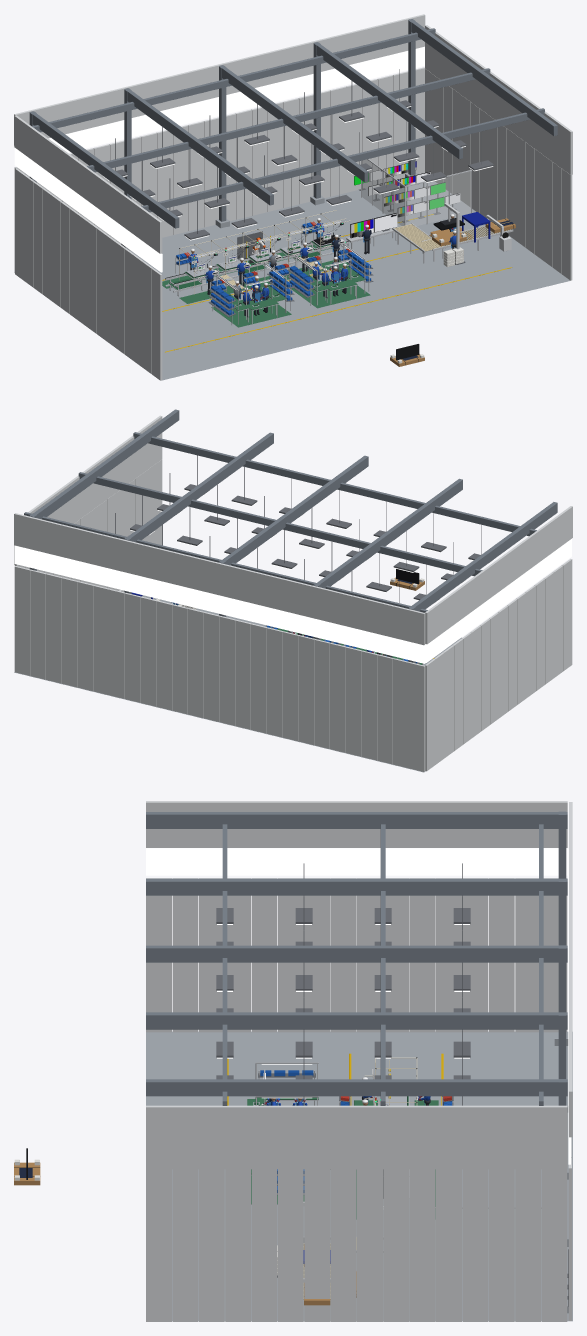
Rendered from slice.glb.
3 renders of one model, top to bottom at view 1: azimuth 30°, elevation 25°; view 2: azimuth 150°, elevation 25°; view 3: azimuth 270°, elevation 25°, orthographic. The views are drawn at different scales.
Visible parts, largest first — view 1: AREA.building.walls, AREA.floor.slab, AREA.building.steel, AREA.building.lights, AREA.qa.walls, AREA.floor.marks, AREA.people.operators, AREA.cells.benches, AREA.cells.bins, AREA.pack.conveyor, AREA.cells.feed, AREA.stations.frames (+9 smaller); view 2: AREA.building.walls, AREA.building.steel, AREA.building.lights, AREA.floor.slab; view 3: AREA.building.walls, AREA.building.steel, AREA.floor.slab, AREA.building.lights.
Part boxes in pixels (bbox=[...]): AREA.building.walls: bbox=[14, 14, 572, 380]; AREA.floor.slab: bbox=[130, 180, 570, 380]; AREA.building.steel: bbox=[29, 19, 557, 250]; AREA.building.lights: bbox=[103, 69, 493, 240]; AREA.qa.walls: bbox=[361, 159, 471, 225]; AREA.floor.marks: bbox=[162, 214, 511, 352]; AREA.people.operators: bbox=[188, 214, 456, 317]; AREA.cells.benches: bbox=[216, 243, 365, 324]; AREA.cells.bins: bbox=[211, 252, 371, 315]; AREA.pack.conveyor: bbox=[392, 223, 513, 263]; AREA.cells.feed: bbox=[208, 251, 373, 324]; AREA.stations.frames: bbox=[179, 210, 350, 294]; AREA.building.walls: bbox=[14, 415, 572, 771]; AREA.building.steel: bbox=[24, 409, 557, 663]; AREA.building.lights: bbox=[115, 455, 493, 604]; AREA.floor.slab: bbox=[14, 595, 461, 772]; AREA.building.walls: bbox=[146, 801, 572, 1321]; AREA.building.steel: bbox=[146, 811, 568, 1313]; AREA.floor.slab: bbox=[146, 1031, 572, 1321]; AREA.building.lights: bbox=[216, 863, 470, 1105].
Bounding box in the file's own units: 26.3 × 9.6 × 21.2.
Materials: 60 (3 with a texture image).
